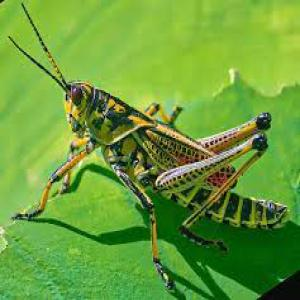locust: (39, 31, 262, 231)
